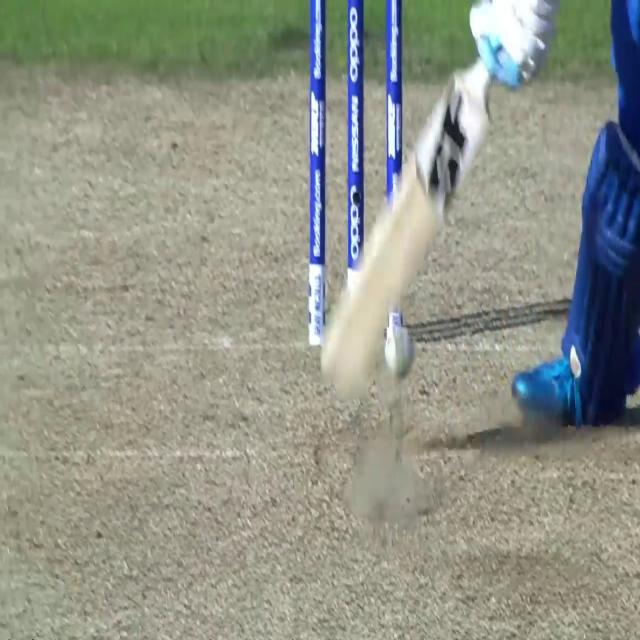ball: (381, 313, 423, 387)
